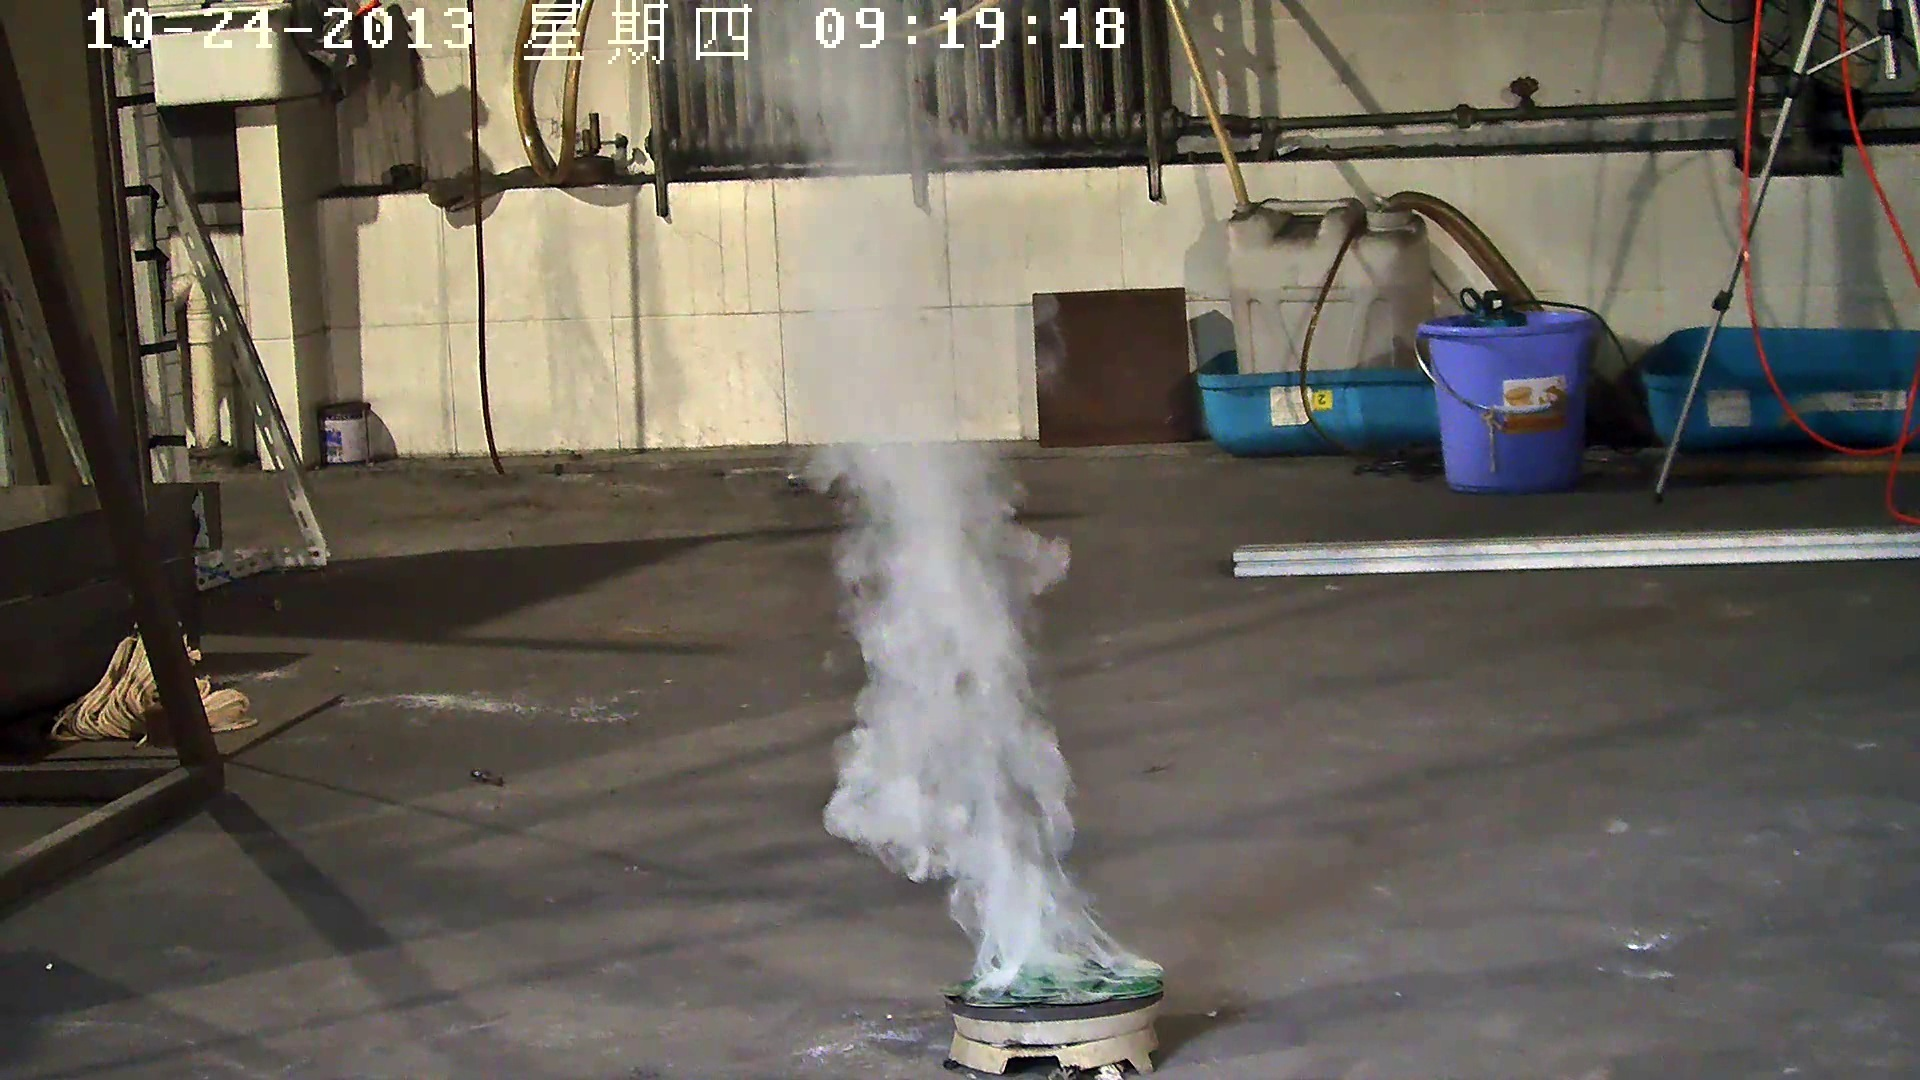smoke: (733, 63, 1153, 992)
